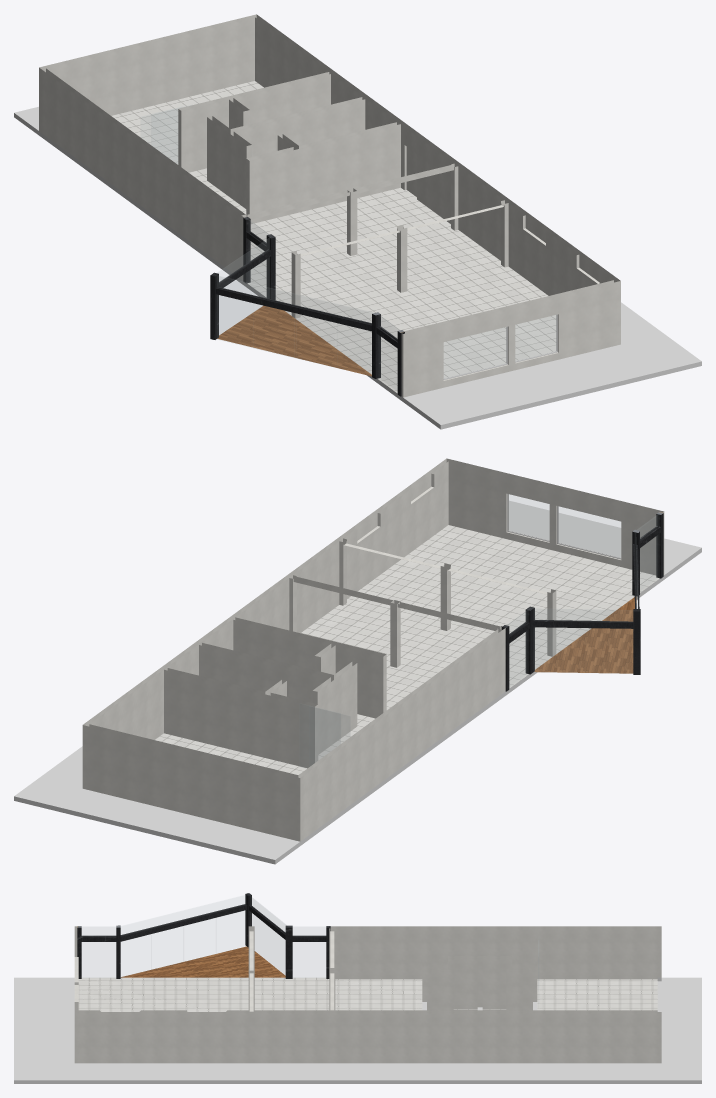
File: SM_BaseSebraeLab.fbx
The picture shows the model from 3 angles, top to bottom: view 1: azimuth 30°, elevation 25°; view 2: azimuth 150°, elevation 25°; view 3: azimuth 270°, elevation 25°; orthographic projection. The views are drawn at different scales.
Parts seen in each view (by area): view 1: SM_BaseSebraeLab; view 2: SM_BaseSebraeLab; view 3: SM_BaseSebraeLab.
Part boxes in pixels (x1,y1,x2,y2): SM_BaseSebraeLab: (14,14,701,429); SM_BaseSebraeLab: (14,458,701,864); SM_BaseSebraeLab: (14,893,701,1083).
Size of the model in its own units: 1593 by 300 by 3404.
